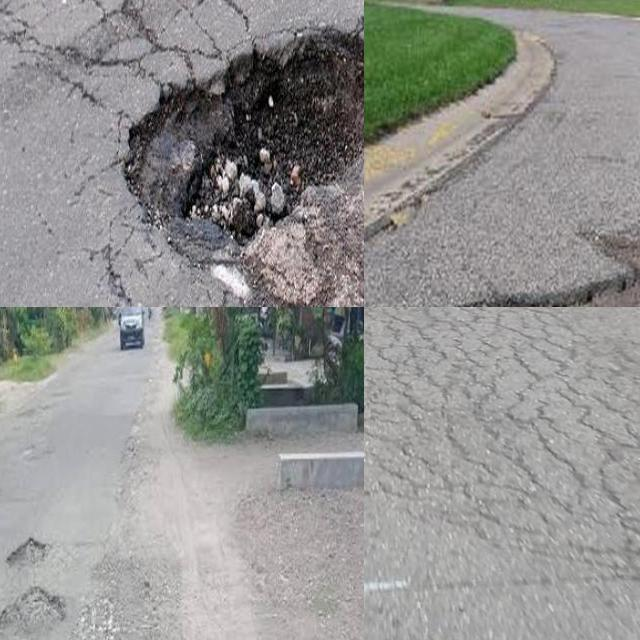Lubang: (130, 30, 364, 265), (0, 593, 64, 640), (4, 538, 47, 567)
Retak Buaya: (364, 307, 640, 599)
